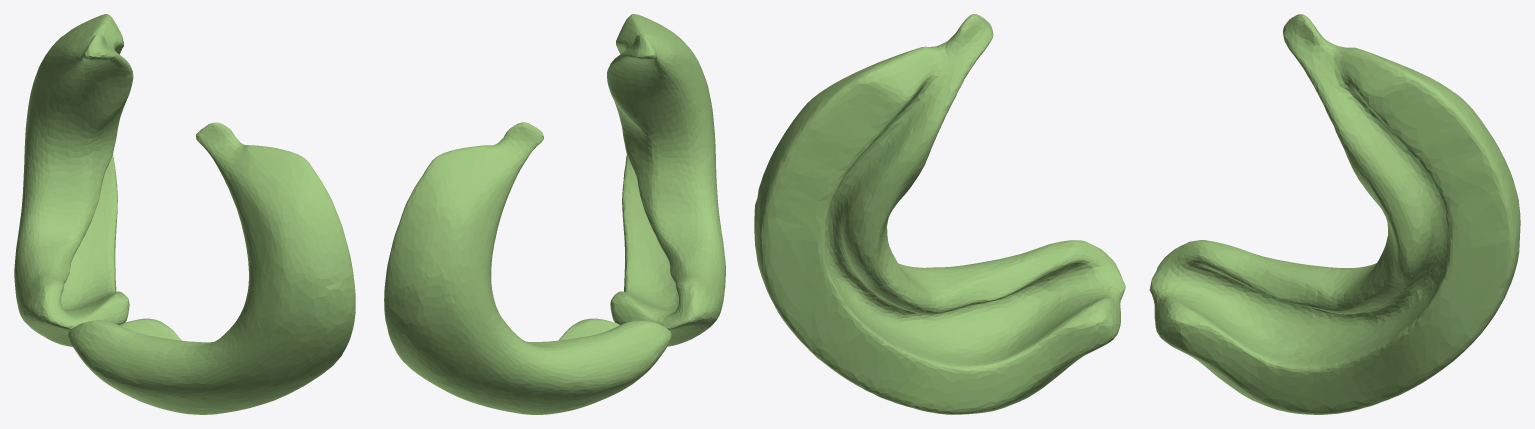
3 renders of one model, left to right at view 1: azimuth 30°, elevation 25°; view 2: azimuth 150°, elevation 25°; view 3: azimuth 270°, elevation 25°, orthographic. The views are drawn at different scales.
Parts seen in each view (by area): view 1: 375.obj; view 2: 375.obj; view 3: 375.obj.
Part boxes in pixels (x1,y1,x2,y2): 375.obj: [14, 14, 355, 414]; 375.obj: [384, 14, 725, 414]; 375.obj: [754, 14, 1520, 414].
Size of the model in its own units: 2998 by 4897 by 8480.
